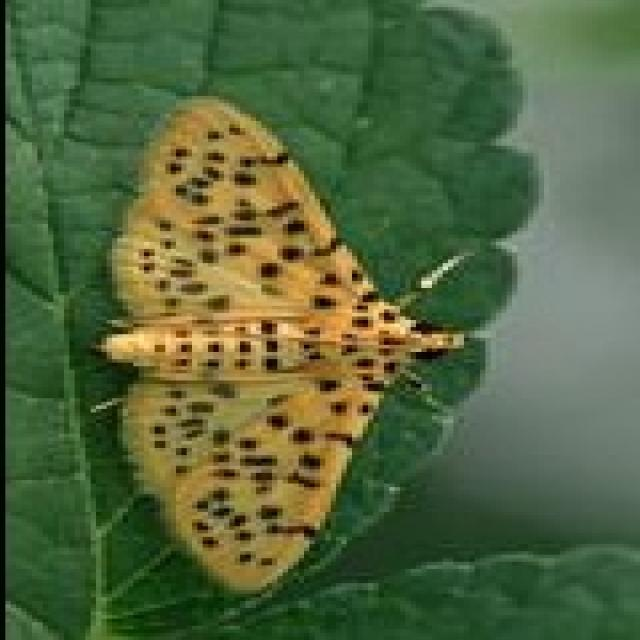peach borer: (89, 92, 478, 600)
